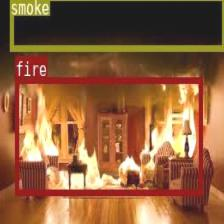fire: (15, 77, 202, 195)
smoke: (8, 0, 223, 50)
